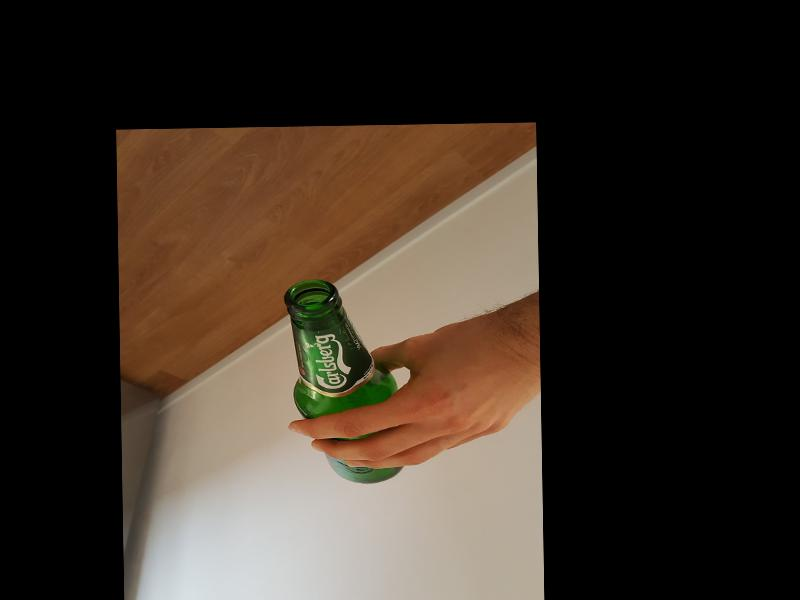Beer: (284, 277, 399, 484)
